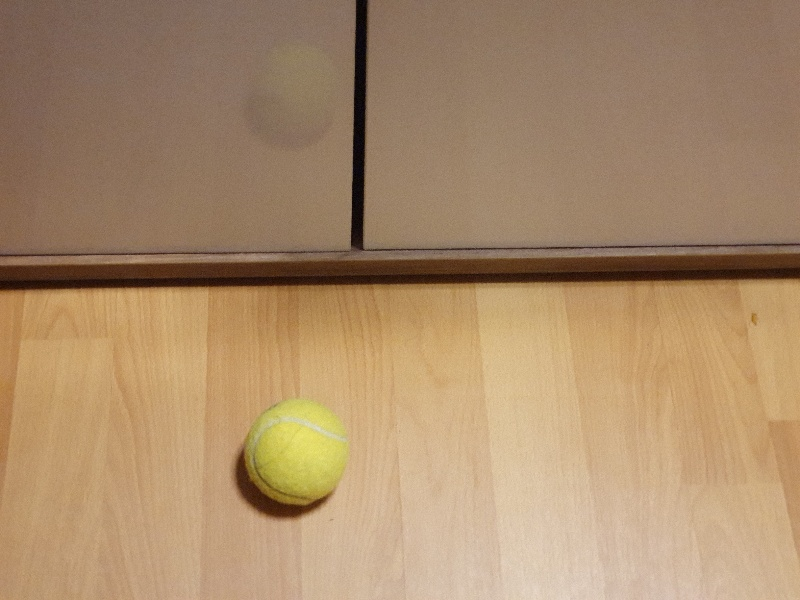Tennisball: (228, 389, 371, 522)
